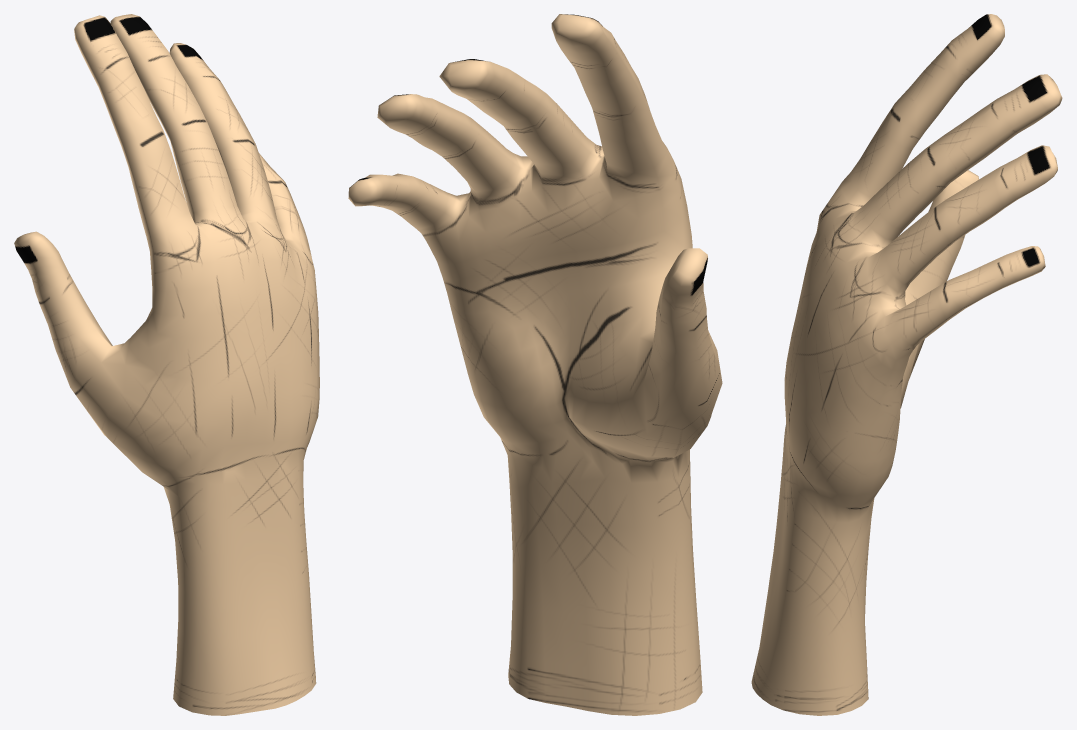
The model's file is hand right.fbx.
3 renders of one model, left to right at view 1: azimuth 30°, elevation 25°; view 2: azimuth 150°, elevation 25°; view 3: azimuth 270°, elevation 25°, orthographic. The views are drawn at different scales.
Visible parts, largest first — view 1: og1; view 2: og1; view 3: og1.
Part boxes in pixels (x1,y1,x2,y2): og1: [14, 14, 319, 715]; og1: [348, 14, 722, 715]; og1: [751, 14, 1062, 715].
Bounding box in the file's own units: 18.92 × 42.97 × 19.17.
1 material, 1 textured.
